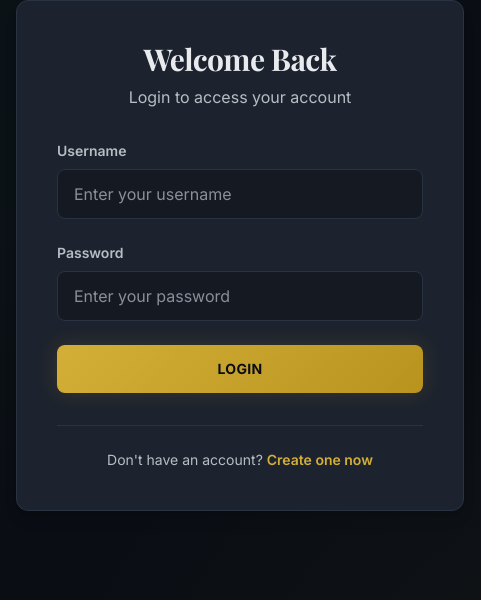
Test: Login Component - Phase 3.8 › should display error on failed login
The width and height of the screenshot is (481, 600).
Step 1. Type "bad" into the field labelled "Username" → (240, 194), box [57, 169, 423, 219]
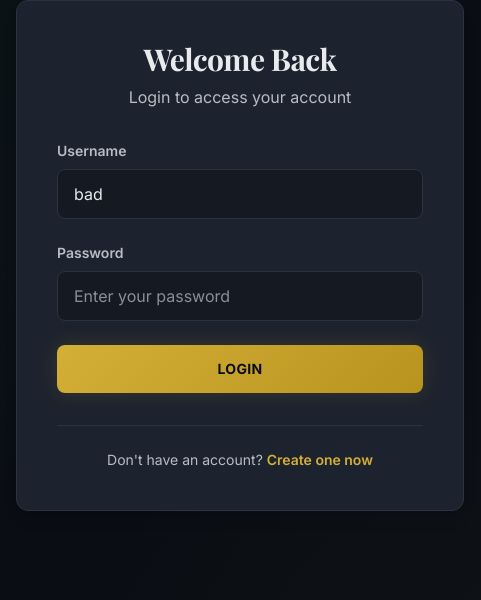
Step 2. Type "wrongpass" into the password field labelled "Password" → (240, 296), box [57, 271, 423, 321]
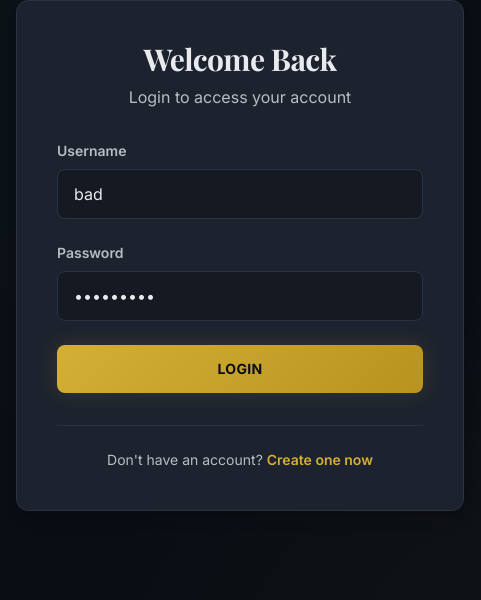
Step 3. Click the button "Login" → (240, 369), box [57, 345, 423, 393]
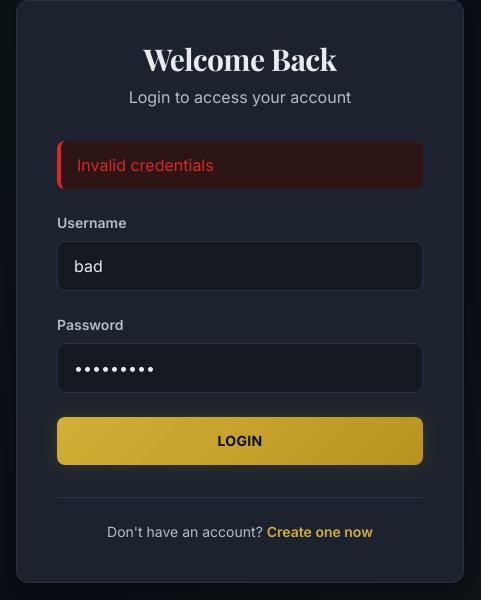
Expected: the text "Invalid credentials" is shown, [57, 141, 423, 189]
